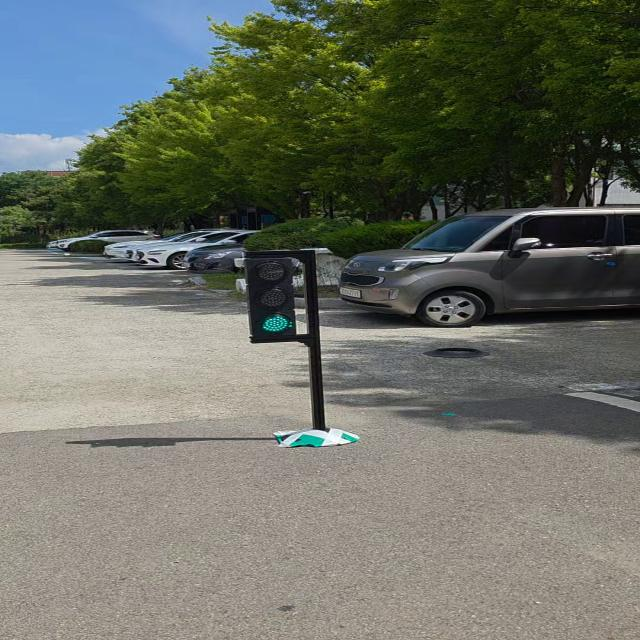green: (243, 249, 318, 343)
